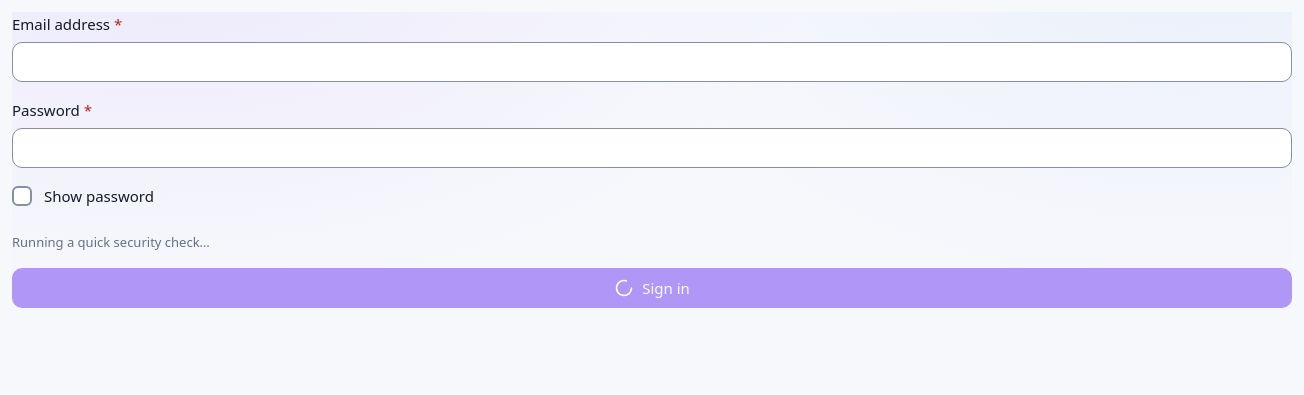
Test: Turnstile on the auth forms › explains a refused security check
The width and height of the screenshot is (1304, 395).
In the field labelled "Email address *": (652,62) [12, 42, 1292, 82], type "ada@example.test"
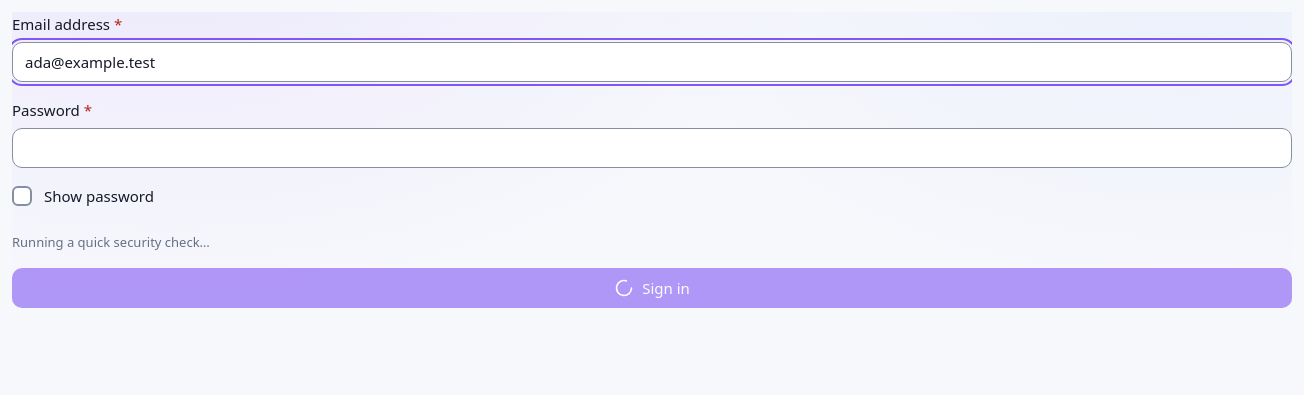
In the password field labelled "Password *": (652,148) [12, 128, 1292, 168], type "a synthetic password"
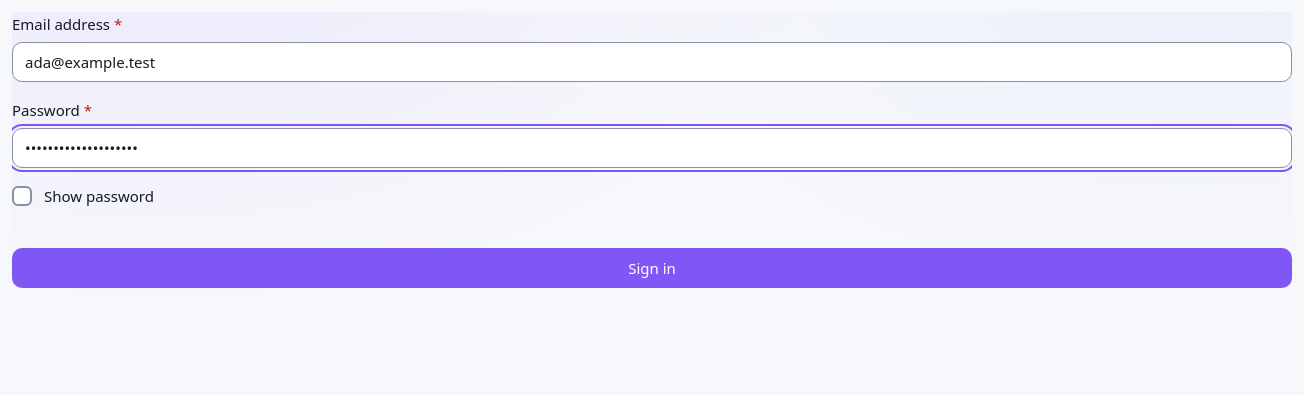
Click the button "Sign in": (652,268) [12, 248, 1292, 288]
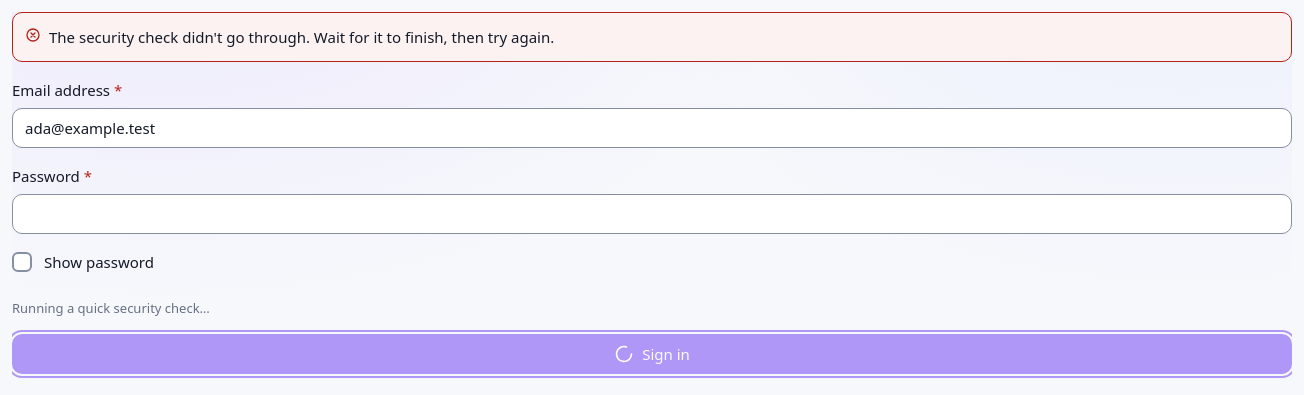
Now the message "The security check didn't go through. Wait for it to finish, then try again." is shown, box [12, 12, 1292, 62]
